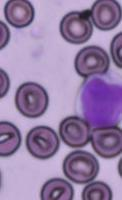M: (74, 70, 121, 130)
